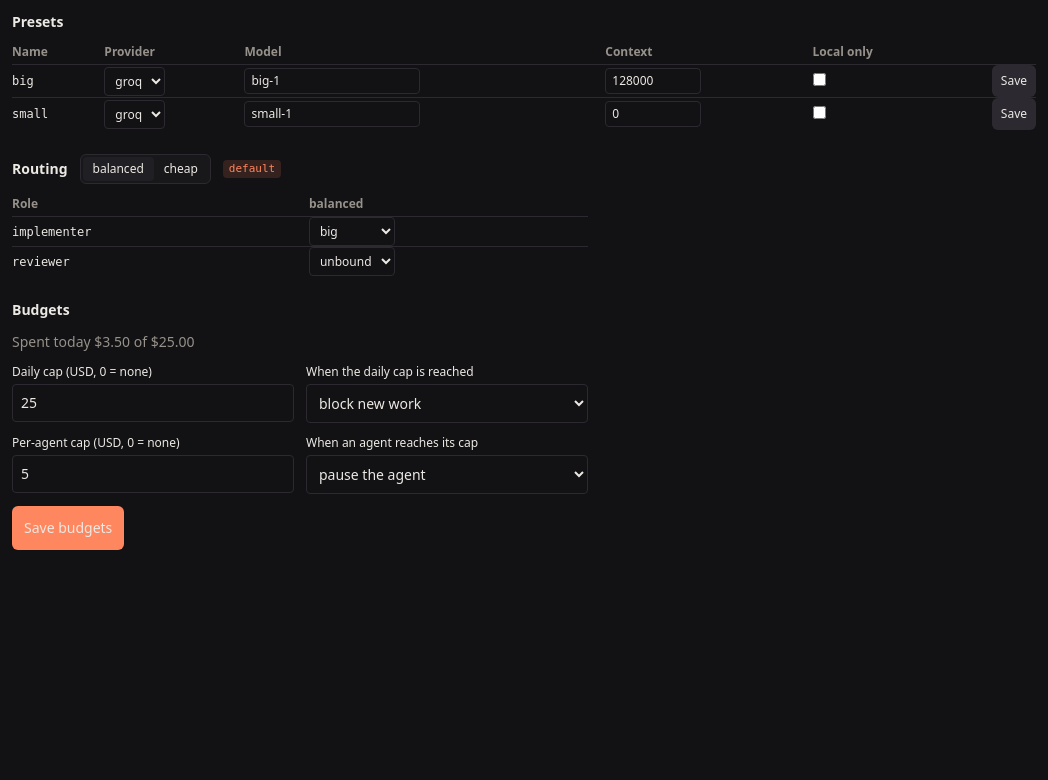
Scenario: Models › adopts the values the bridge stored after a save
Expected: the text "Spent today $3.50 of $25.00" is shown, [12, 332, 194, 351]
Step 1. Replace the text in the number field labelled "Daily cap" with "1000000" → (153, 403), box [12, 384, 294, 422]
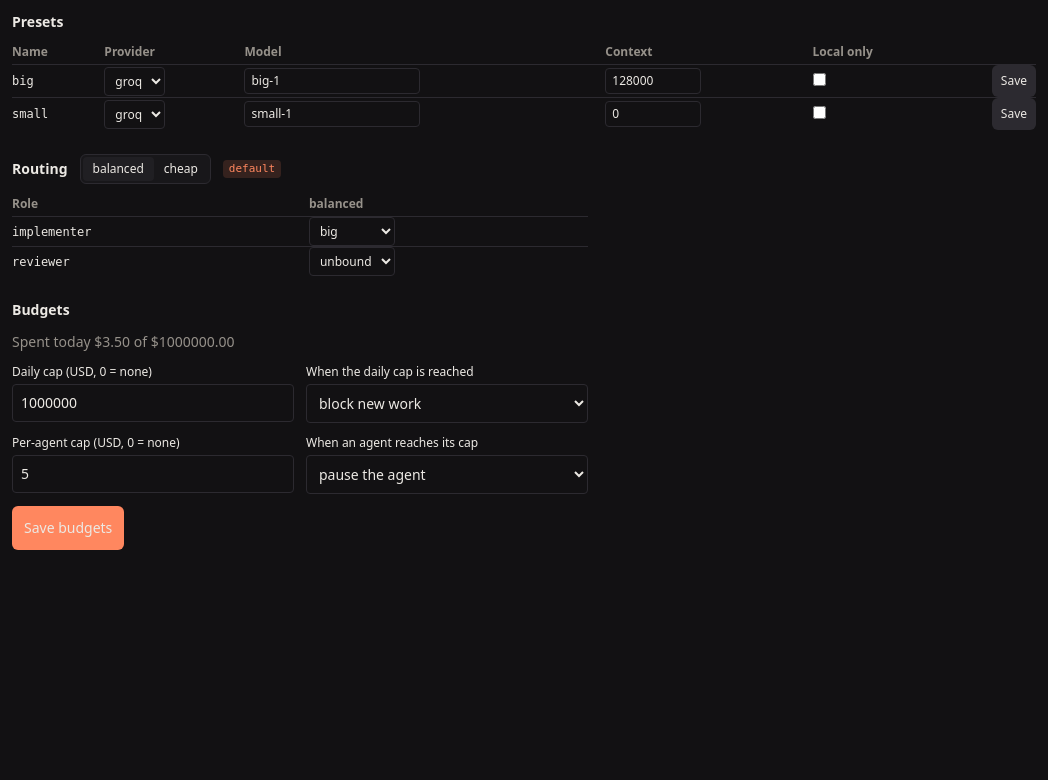
Step 2. Click the button "Save budgets" → (68, 528), box [12, 506, 124, 550]
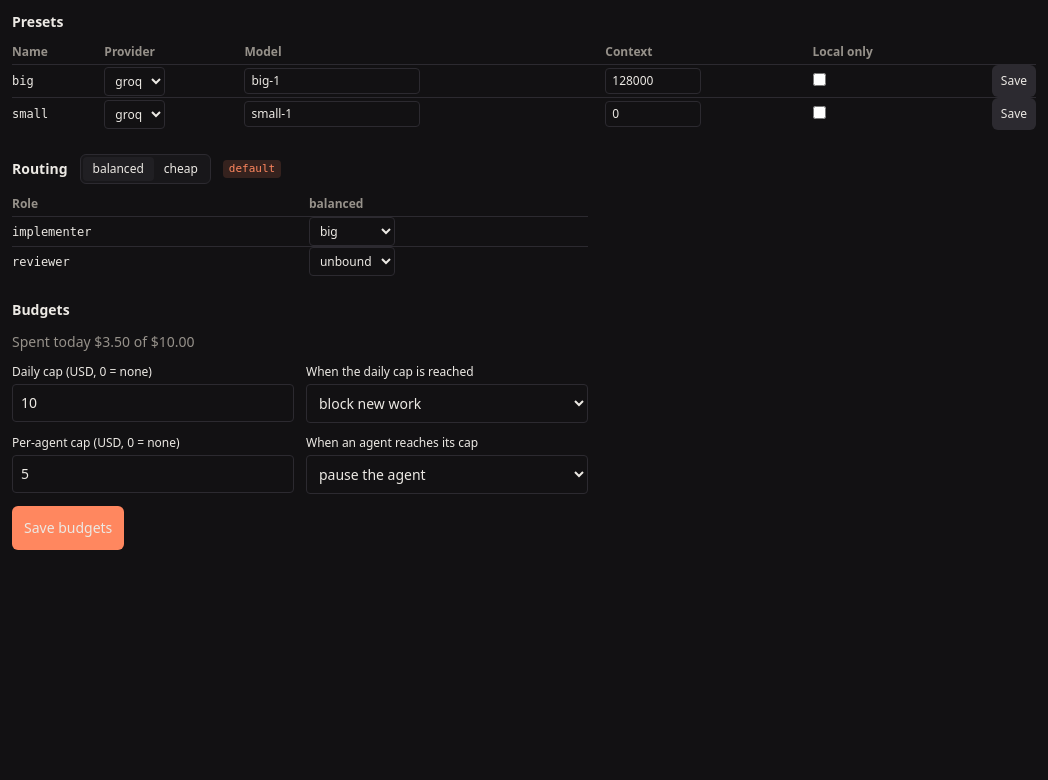
Expected: the number field labelled "Daily cap" holds "10", [12, 384, 294, 422]
